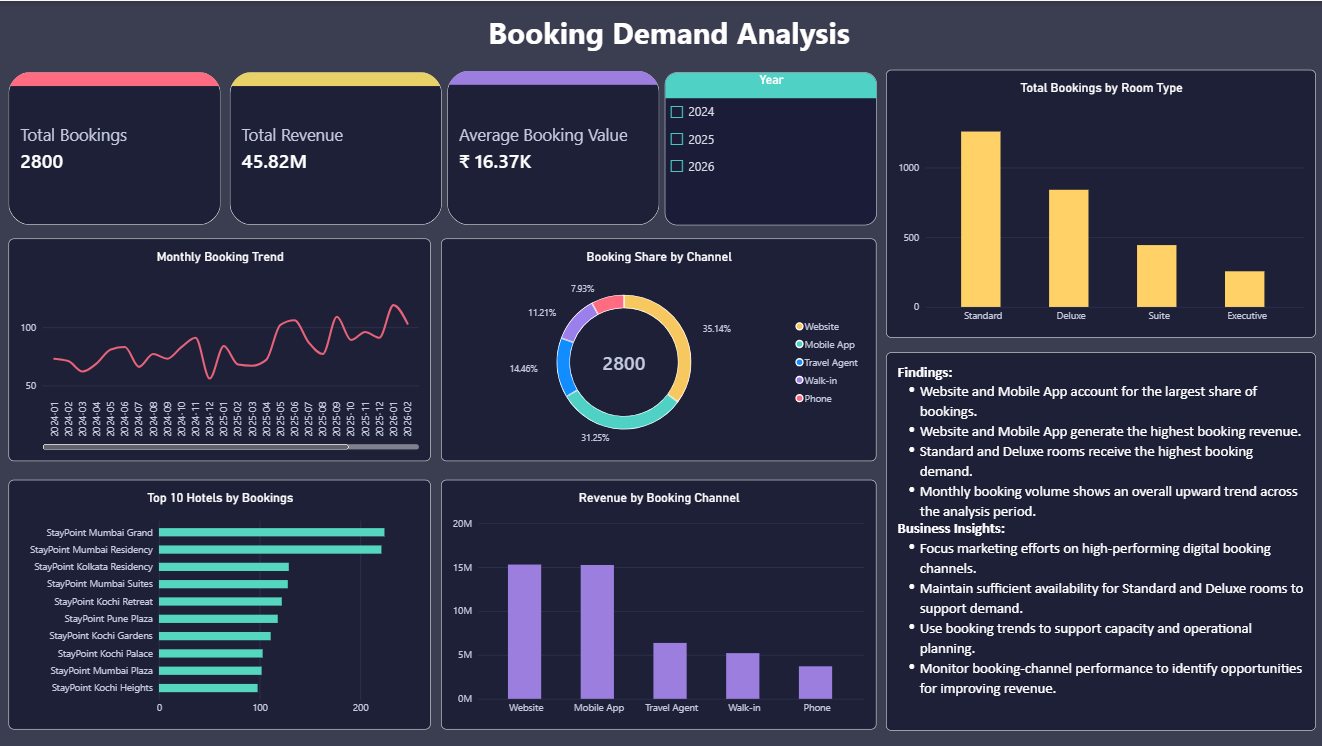

The page's visual inventory and layout, read from the dashboard file:
{"tool":"powerbi","page":{"name":"5.1","canvas":[1920,1080],"ordinal":1},"visuals":[{"type":"cardVisual","title":"Total Bookings","fields":{"Data":["bookings.Total Bookings"]},"box":[18.8,103.1,307.6,221.3],"z":0},{"type":"clusteredColumnChart","title":"Revenue by Booking Channel","fields":{"Category":["bookings.booking_channel"],"Y":["bookings.Total Revenue"]},"box":[645.1,693.9,630.1,361.9],"z":1000},{"type":"clusteredColumnChart","title":"Total Bookings by Room Type","fields":{"Category":["bookings.room_type_requested"],"Y":["bookings.Total Bookings"]},"box":[1288.4,99.4,622.6,388.2],"z":2000},{"type":"lineChart","title":"Monthly Booking Trend","fields":{"Category":["DateTable.Year Month"],"Y":["bookings.Total Bookings"]},"box":[18.8,343.2,611.4,322.6],"z":3000},{"type":"clusteredBarChart","title":"Top 10 Hotels by Bookings","fields":{"Category":["hotels.hotel_name"],"Y":["CountNonNull(bookings.booking_id)"]},"box":[18.8,693.9,611.4,361.9],"z":4000},{"type":"donutChart","title":"Booking Share by Channel","fields":{"Category":["bookings.booking_channel"],"Y":["bookings.Total Bookings"]},"box":[645.1,343.2,630.1,322.6],"z":5000},{"type":"textbox","box":[1288.4,508.2,622.6,547.6],"z":6000},{"type":"cardVisual","title":"Total Revenue","fields":{"Data":["bookings.Total Revenue"]},"box":[337.6,103.1,307.6,221.3],"z":7000},{"type":"cardVisual","title":"Average Booking Value","fields":{"Data":["bookings.Average Booking Value"]},"box":[652.6,101.3,307.6,223.2],"z":8000},{"type":"textbox","box":[531.1,17,888.4,64.3],"z":9000},{"type":"slicer","title":"Year","fields":{"Values":["DateTable.Year"]},"box":[967.7,103.1,307.6,221.3],"z":10000}]}

Visuals, with their boxes in screenshot pixels (x1, y1, x2, y2), scaled from the page's 1920x1080 canvas onto the 1322x746 screenshot:
"Total Bookings" cardVisual: (13,71,225,224)
"Revenue by Booking Channel" clusteredColumnChart: (444,479,878,729)
"Total Bookings by Room Type" clusteredColumnChart: (887,69,1316,337)
"Monthly Booking Trend" lineChart: (13,237,434,460)
"Top 10 Hotels by Bookings" clusteredBarChart: (13,479,434,729)
"Booking Share by Channel" donutChart: (444,237,878,460)
textbox: (887,351,1316,729)
"Total Revenue" cardVisual: (232,71,444,224)
"Average Booking Value" cardVisual: (449,70,661,224)
textbox: (366,12,977,56)
"Year" slicer: (666,71,878,224)
